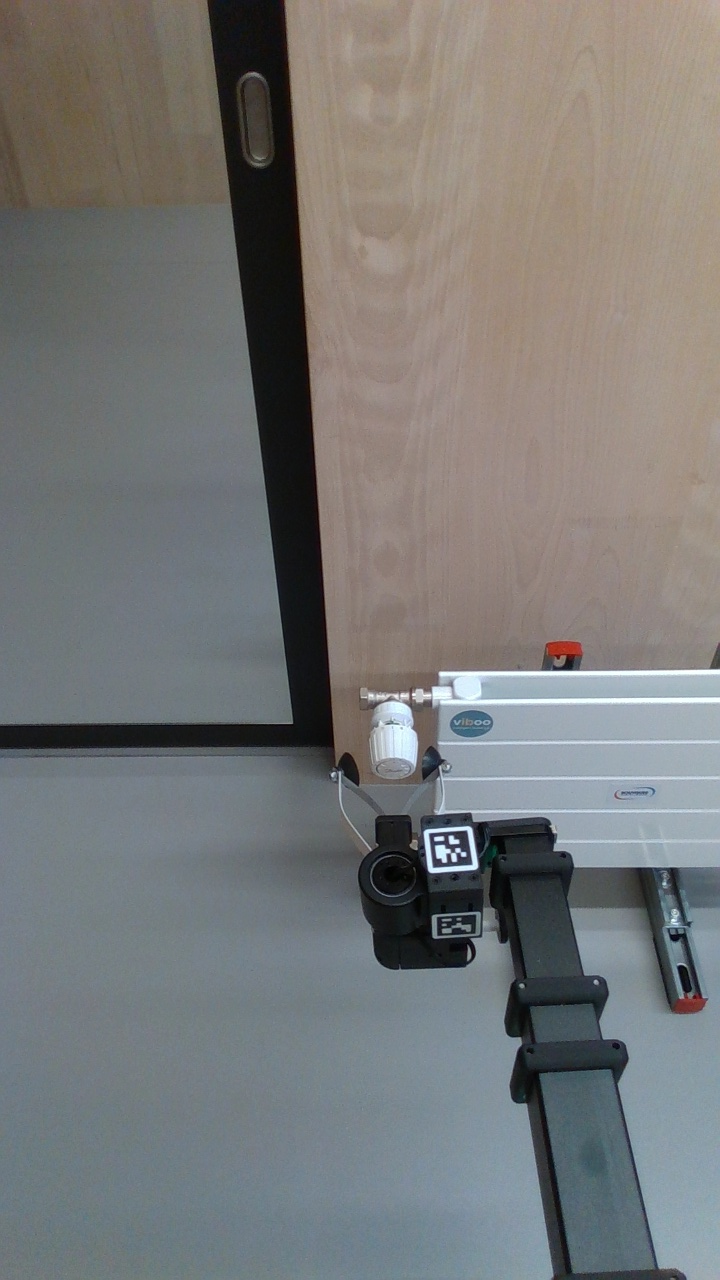Knob_Radiator: (361, 703, 429, 790)
Radiator: (427, 661, 720, 874)
